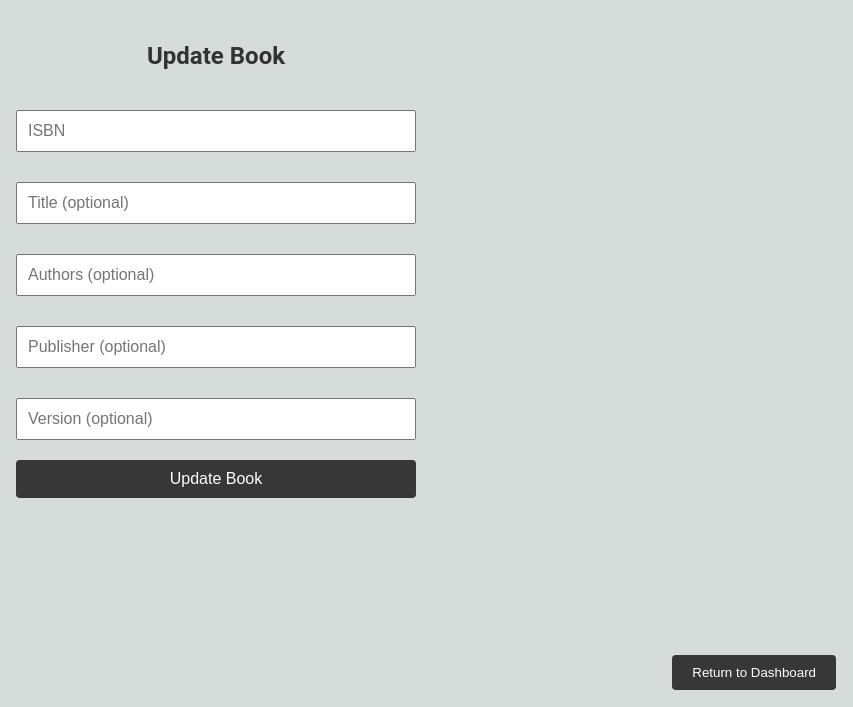
Scenario: UpdateBook Component › shows an error when no update fields are provided
# Fill only the ISBN field
Step 1. Type "1234567890" into the field with placeholder "ISBN" → (216, 131), box 16,110 -> 416,152
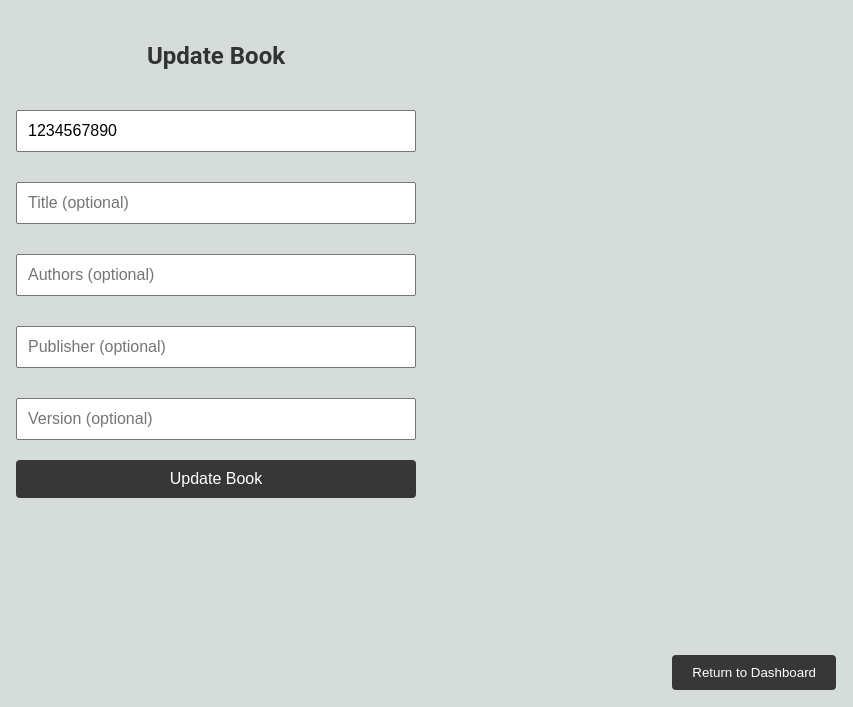
# Click the "Update Book" button
Step 2. Click the button "Update Book" → (216, 479), box 16,460 -> 416,498
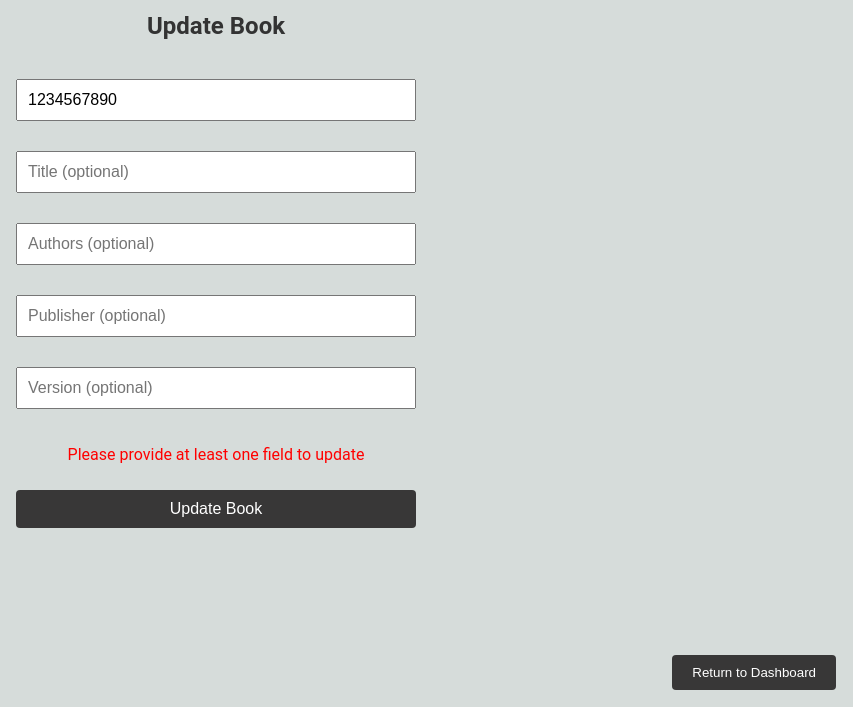
Expected: the text "Please provide at least one field to update" is shown, 68,445 -> 364,464
